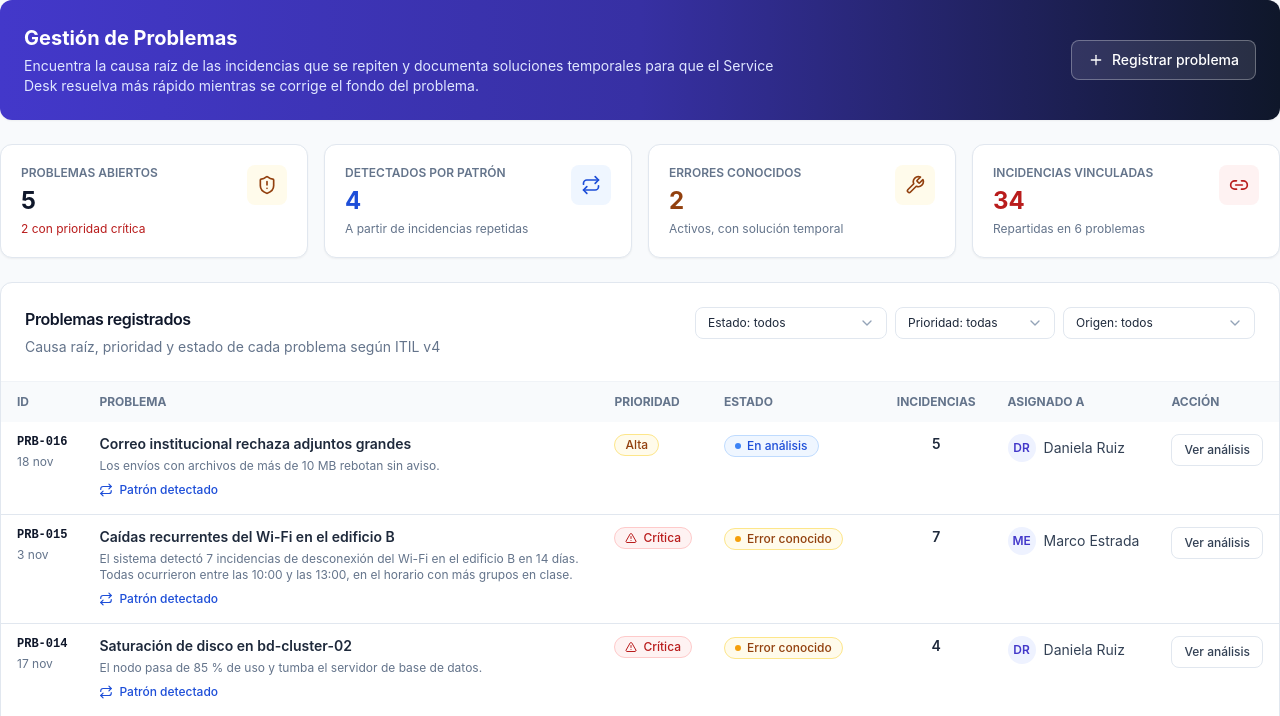
it: ProblemsPage › filtra por estado y prioridad, y ofrece quitar los filtros
The image size is (1280, 716).
Select "Estado: resuelto" in the dropdown named "Filtrar por estado" at (791, 323), box [695,307,887,339]
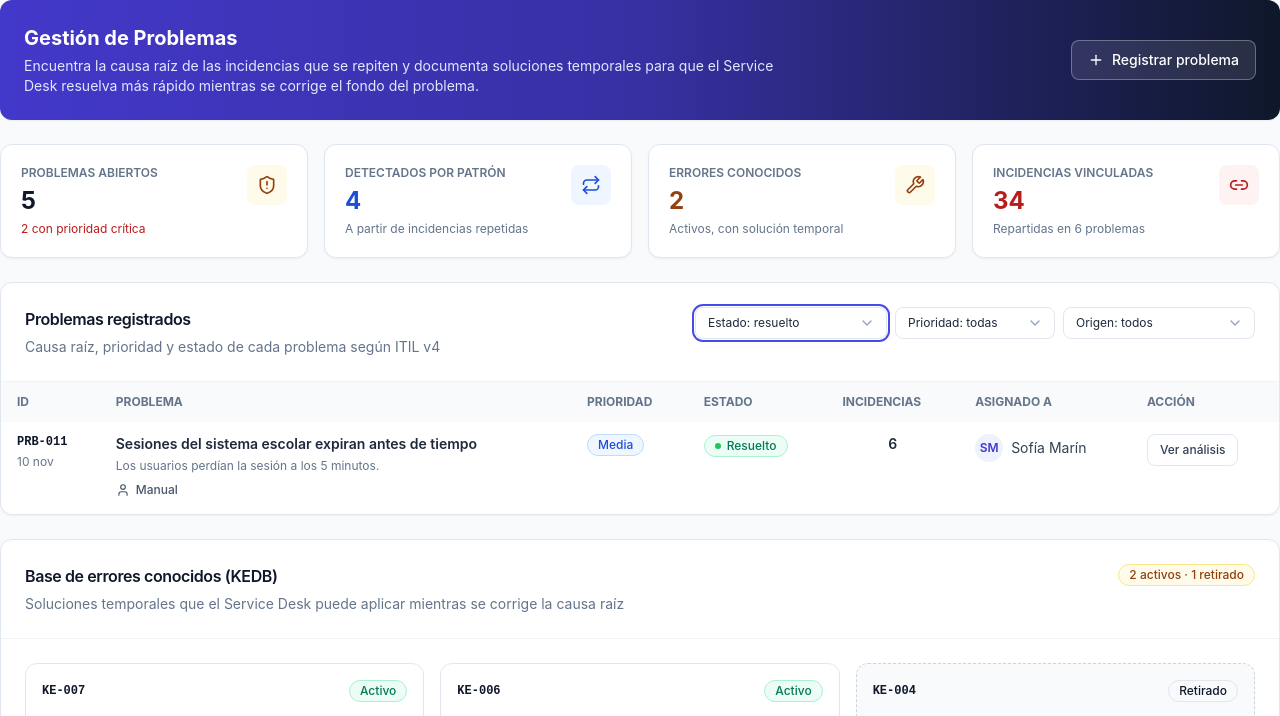
Expected: the text "PRB-011" is shown, [17,435,67,449]
Expected: the text "PRB-015" is not shown
Select "Prioridad: crítica" in the dropdown named "Filtrar por prioridad" at (975, 323), box [895,307,1055,339]
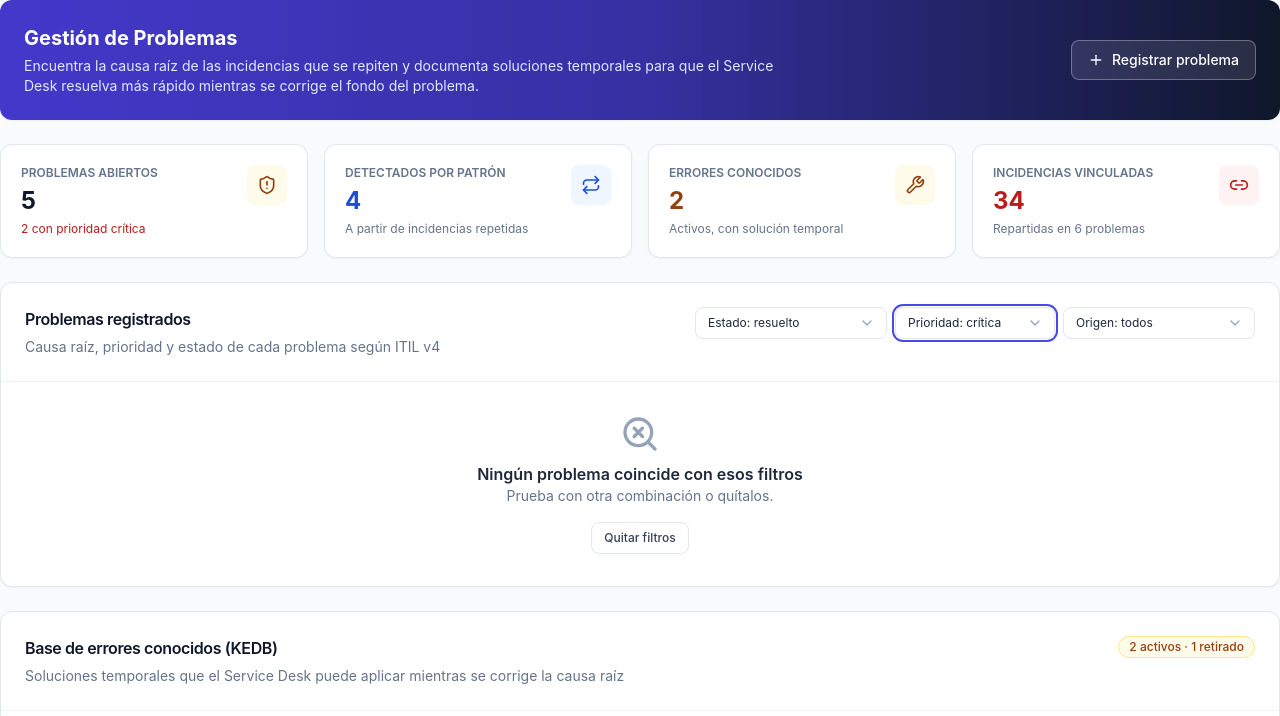
Expected: the text "Ningún problema coincide con esos filtros" is shown, [477,462,803,486]
Click the button "Quitar filtros".
click(640, 538)  # box [591,522,689,554]
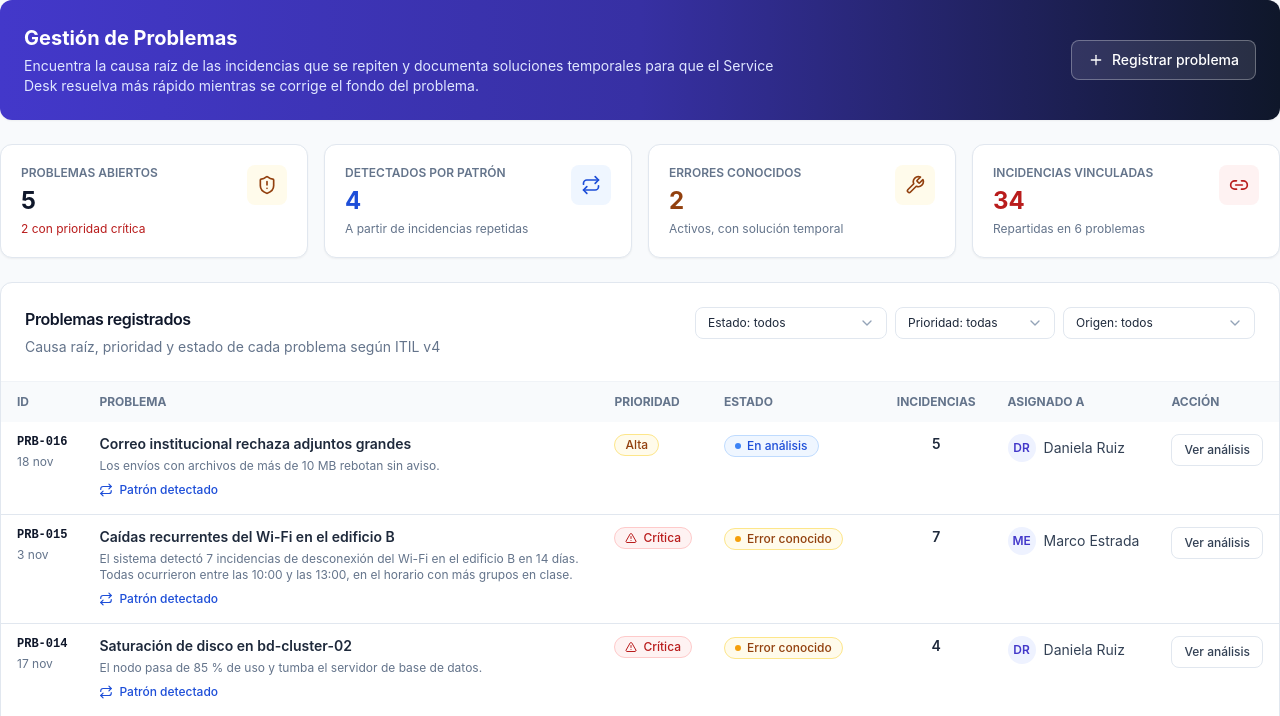
Expected: the text "PRB-015" is shown, [17,527,67,543]
